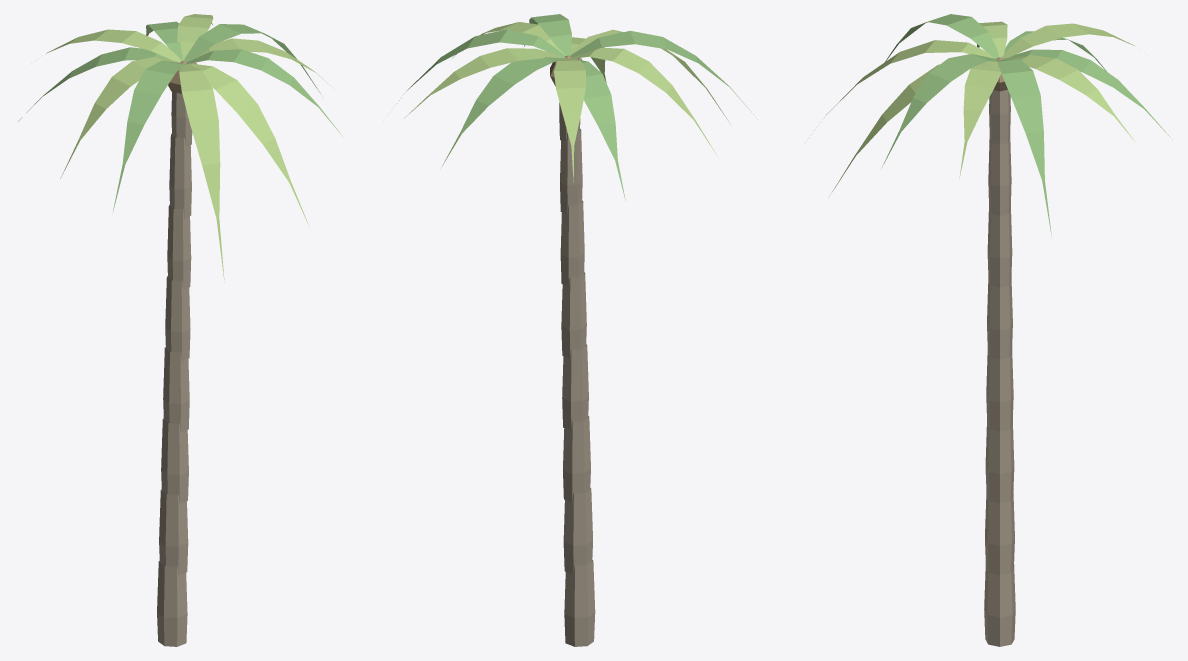
Rendered from fv_palm.glb.
The picture shows the model from 3 angles, left to right: view 1: azimuth 30°, elevation 25°; view 2: azimuth 150°, elevation 25°; view 3: azimuth 270°, elevation 25°; orthographic projection.
Parts seen in each view (by area): view 1: fv_palm; view 2: fv_palm; view 3: fv_palm.
Part boxes in pixels (box(x1,y1,x2,y2)): fv_palm: box(18, 14, 342, 646); fv_palm: box(399, 14, 757, 646); fv_palm: box(824, 14, 1172, 646).
Bounding box in the file's own units: 4.77 × 8.87 × 5.12.
